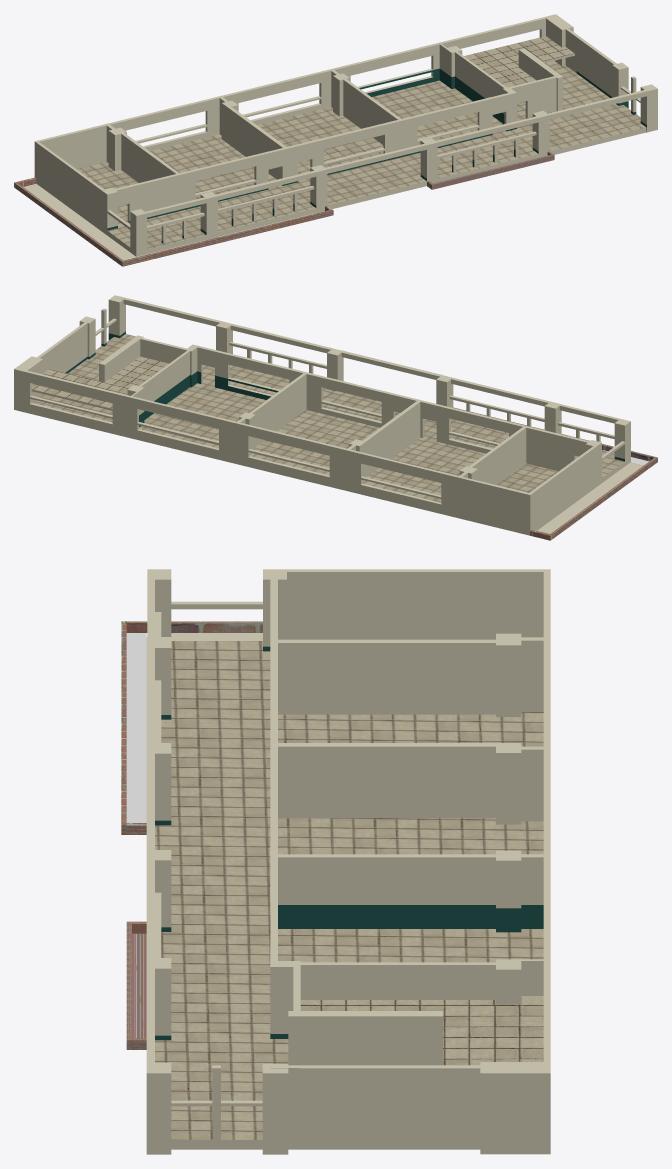
The model's file is Ground_Floor.fbx.
3 views of the same model, one above another, from view 1: azimuth 30°, elevation 25°; view 2: azimuth 150°, elevation 25°; view 3: azimuth 270°, elevation 25° (orthographic). The views are drawn at different scales.
Visible parts, largest first — view 1: Ground_Floor; view 2: Ground_Floor; view 3: Ground_Floor.
Part boxes in pixels (x1,y1,x2,y2): Ground_Floor: [14, 14, 657, 266]; Ground_Floor: [14, 295, 657, 540]; Ground_Floor: [121, 569, 550, 1154].
Bounding box in the file's own units: 4697 × 341 × 1628.
5 materials, 4 textured.
